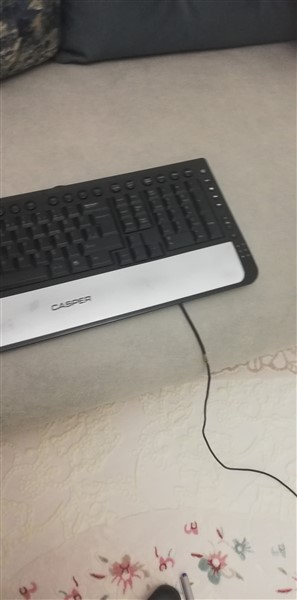klavye: (1, 157, 261, 356)
